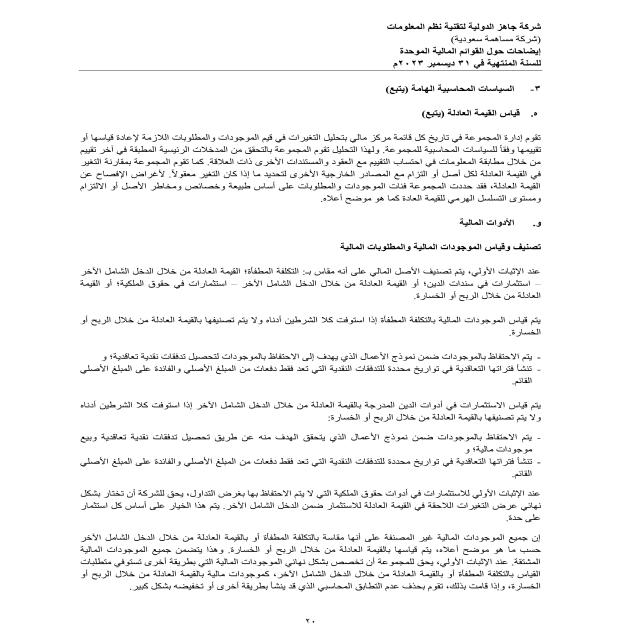notes: (385, 43, 554, 55)
text: (42, 97, 561, 608)
